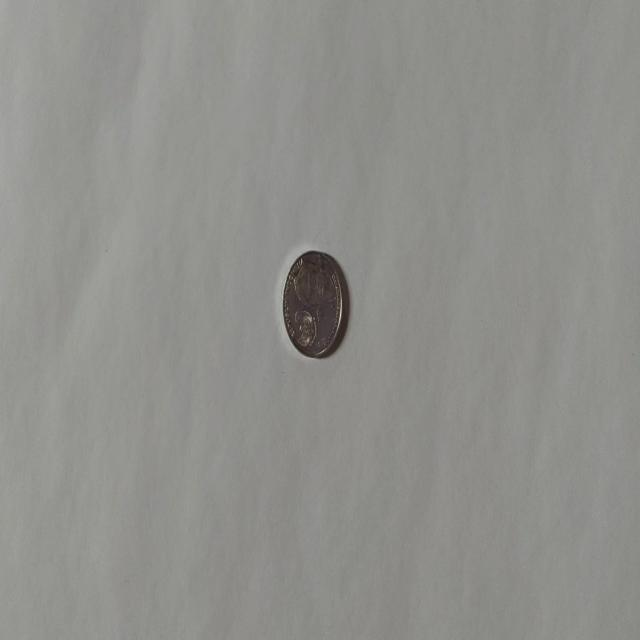dua ratus rupiah: (282, 248, 344, 358)
